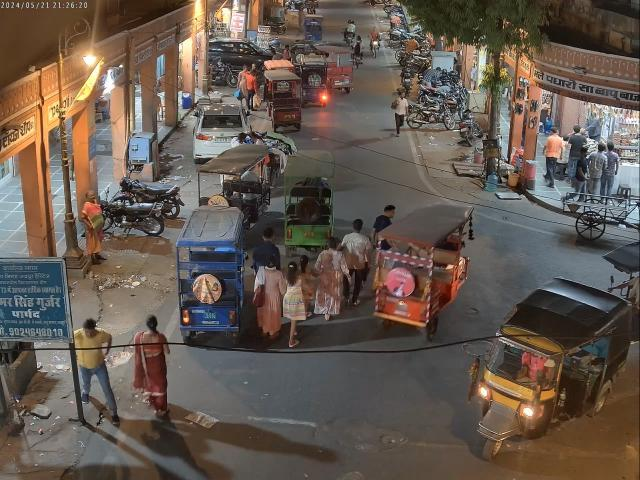auto: (470, 274, 632, 458), (378, 205, 476, 338), (176, 208, 246, 345), (200, 141, 276, 223), (282, 147, 336, 246), (264, 69, 305, 134)
car: (192, 99, 250, 159)
motorbike: (98, 189, 164, 237), (119, 174, 182, 218), (408, 99, 455, 133), (456, 110, 479, 142)
person: (71, 318, 116, 428), (128, 318, 168, 424), (316, 238, 350, 318), (254, 256, 286, 339), (283, 262, 308, 346), (78, 190, 104, 262), (251, 226, 285, 271), (594, 142, 621, 194), (543, 130, 568, 183), (570, 154, 590, 192), (392, 92, 409, 134), (244, 69, 260, 110)
rickshow: (574, 188, 638, 244)
